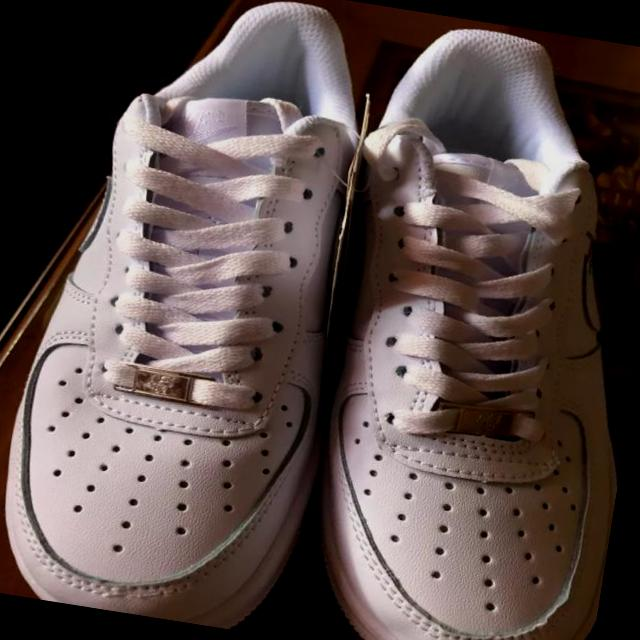nike_fake_airforce: (0, 0, 390, 639), (276, 9, 640, 640)
